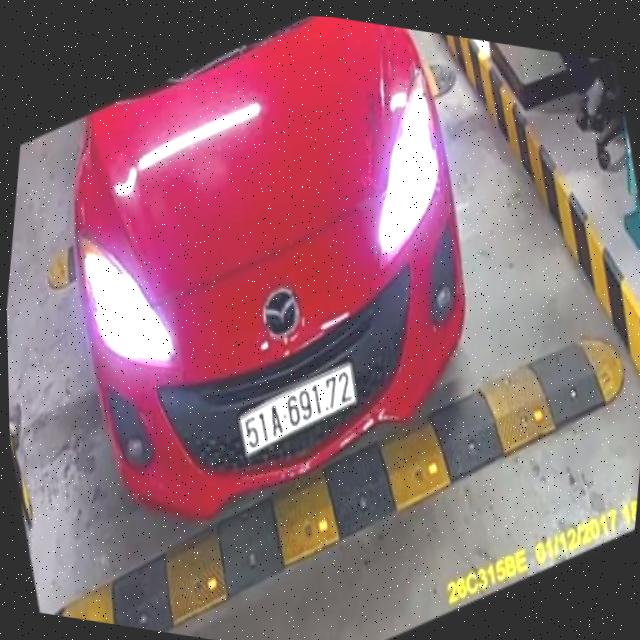car: (34, 2, 512, 571)
plate: (229, 343, 364, 473)
